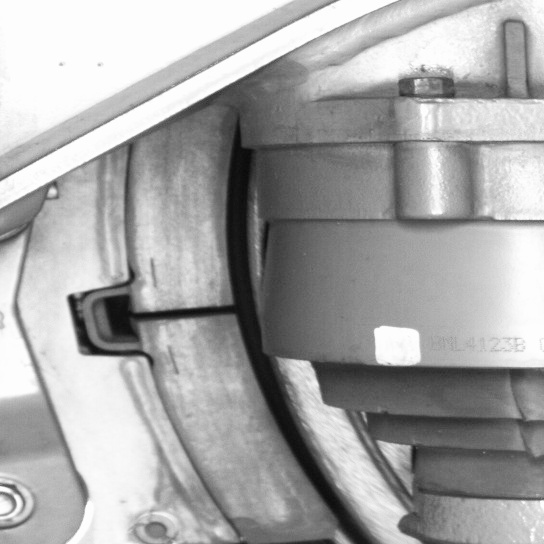KnifeSwitch: (145, 141, 388, 541)
